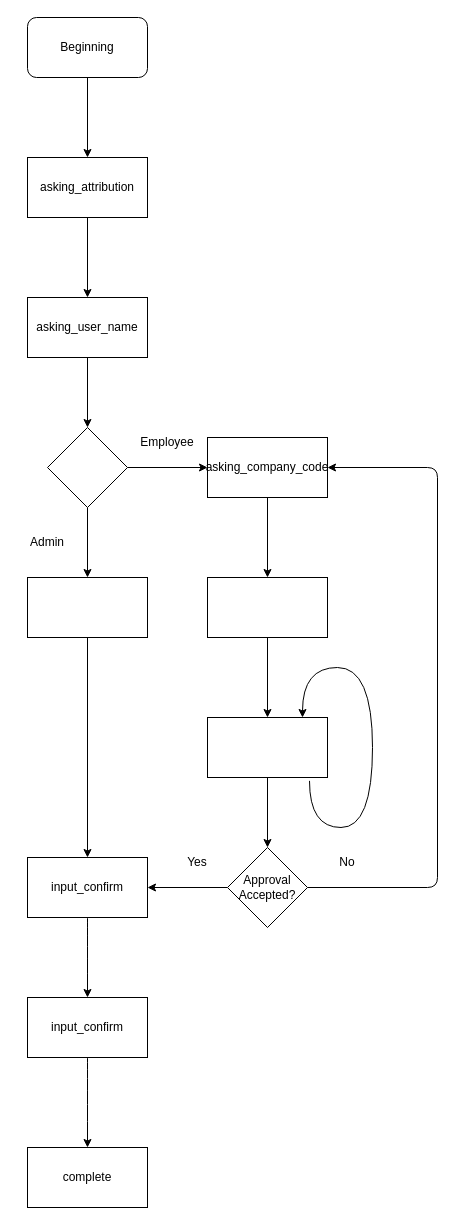
Some shapes in this 463 by 1225 pixel diagram are drawn without their labels. Here are the shapes that lost their labels. From the top down, the box of each, then its label:
(46, 426, 128, 508): Admin or Employee
(26, 576, 148, 638): asking_company_name
(206, 576, 328, 638): company_confirmation
(206, 716, 328, 778): awaiting_approval
